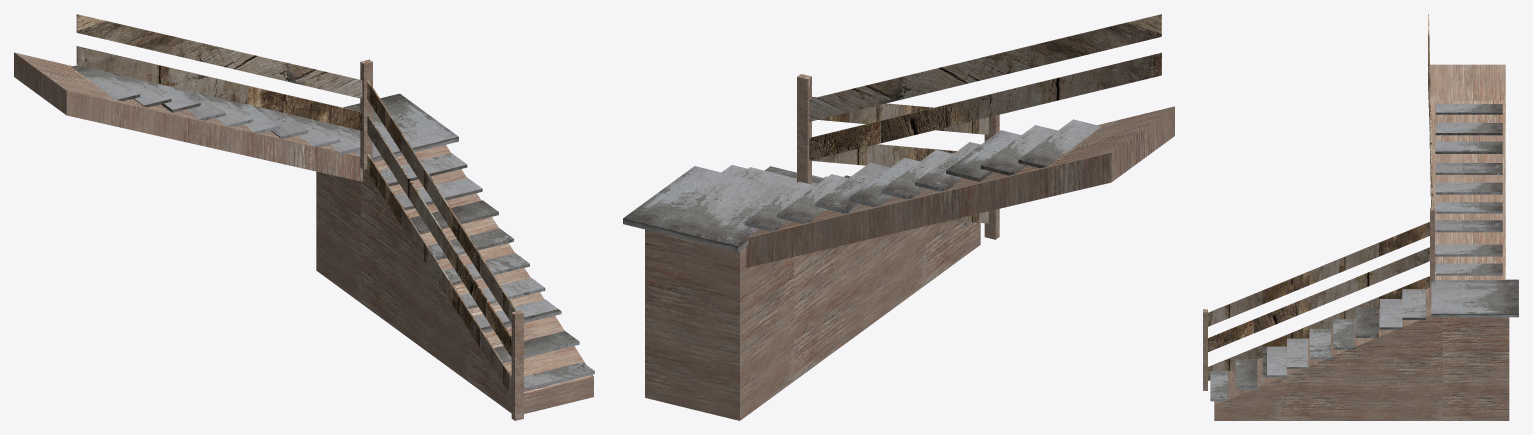
File: stiars.FBX
3 views of the same model, side by side, from view 1: azimuth 30°, elevation 25°; view 2: azimuth 150°, elevation 25°; view 3: azimuth 270°, elevation 25° (orthographic). The views are drawn at different scales.
Visible parts, largest first — view 1: Box051, Box044, Box047, Box042, Box046, Box052, Box048, Box022, Box058, Box040, Box010, Box018 (+16 smaller); view 2: Box051, Box044, Box047, Box042, Box022, Box060, Box048, Box046, Box040, Box033, Box034, Box038 (+7 smaller); view 3: Box051, Box044, Box022, Box046, Box048, Box052, Box034, Box038, Box059, Box039, Box033, Box036 (+15 smaller).
Part boxes in pixels (x1,y1,x2,y2): Box051: [316, 145, 593, 413]; Box044: [14, 52, 362, 181]; Box047: [76, 46, 362, 130]; Box042: [76, 14, 362, 98]; Box046: [367, 80, 516, 322]; Box052: [365, 154, 511, 396]; Box048: [367, 115, 511, 357]; Box022: [340, 93, 458, 162]; Box058: [511, 310, 523, 420]; Box040: [360, 59, 372, 169]; Box010: [494, 331, 579, 363]; Box018: [410, 200, 498, 233]; Box051: [645, 220, 980, 420]; Box044: [746, 106, 1174, 267]; Box047: [809, 52, 1161, 160]; Box042: [809, 14, 1161, 121]; Box022: [623, 166, 788, 251]; Box060: [1018, 119, 1101, 168]; Box048: [812, 144, 956, 167]; Box046: [812, 97, 988, 134]; Box040: [797, 74, 811, 184]; Box033: [980, 125, 1057, 175]; Box034: [946, 130, 1021, 181]; Box038: [815, 162, 890, 213]; Box051: [1214, 287, 1509, 420]; Box044: [1428, 64, 1505, 279]; Box022: [1431, 279, 1518, 317]; Box046: [1208, 222, 1429, 326]; Box048: [1208, 247, 1429, 351]; Box052: [1208, 276, 1429, 380]; Box034: [1435, 141, 1502, 153]; Box038: [1435, 220, 1502, 232]; Box059: [1435, 263, 1502, 275]; Box039: [1435, 244, 1502, 256]; Box033: [1435, 123, 1502, 135]; Box036: [1435, 182, 1502, 194].
Size of the model in its own units: 12.52 by 11.15 by 11.71.
3 materials, 3 textured.
